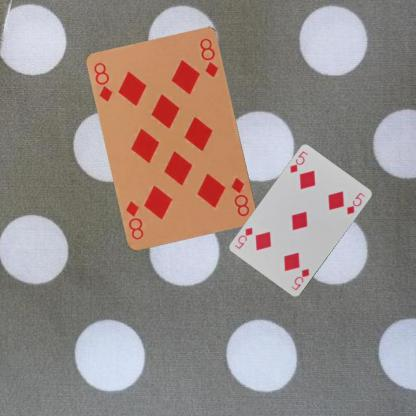5d: (288, 266, 311, 292), (287, 148, 309, 174)
8d: (91, 60, 114, 103), (229, 175, 251, 218)
